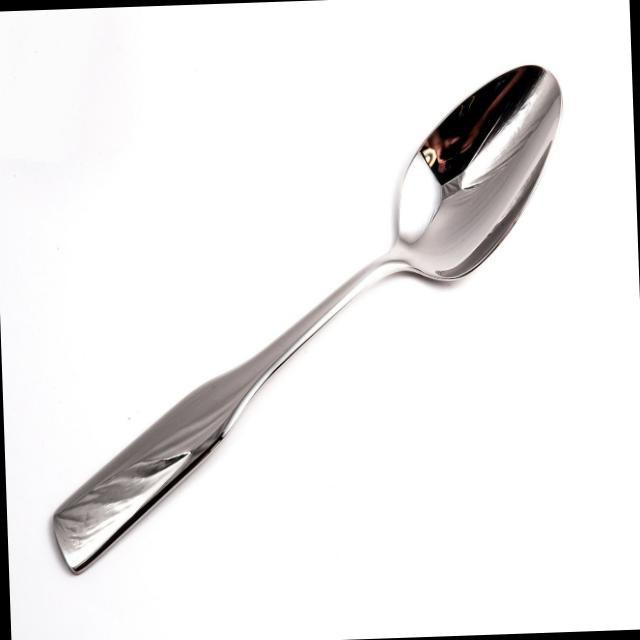spoon: (24, 32, 582, 606)
